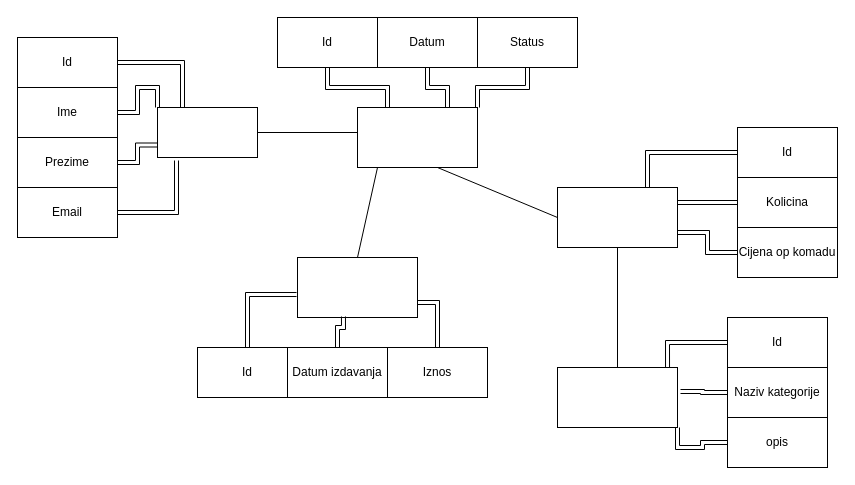
Some shapes in this 855 by 485 pixel diagram are drawn without their labels. Here are the shapes that lost their labels. From the top down, the centre of each, then its label:
At point 207,132: "Korisnik".
At point 417,137: "Narudzba".
At point 617,217: "Stavka narudzbe".
At point 357,287: "Racun".
At point 617,397: "Kategorija proizvoda".
